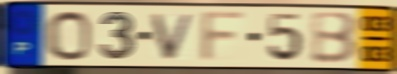3: (97, 9, 137, 63)
5: (265, 12, 305, 64)
B: (308, 10, 360, 66)
F: (197, 9, 250, 65)
O: (44, 9, 93, 62)
V: (149, 12, 199, 62)
